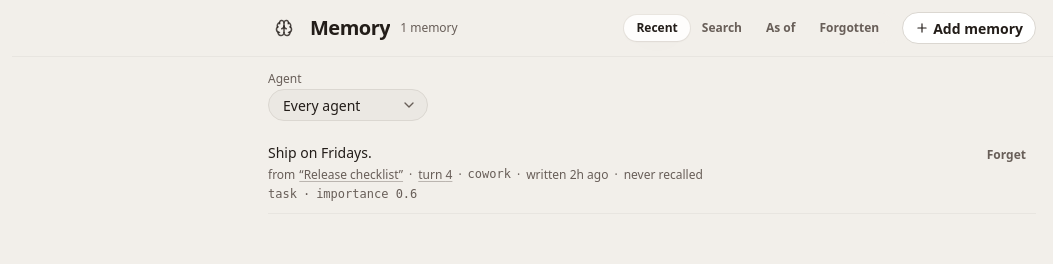
Test: as of a turn › follows a row link into As of without losing the conversation
This screenshot has width=1053, height=264.
Click the link "turn 4": x=435, y=175 418,162 -> 452,188
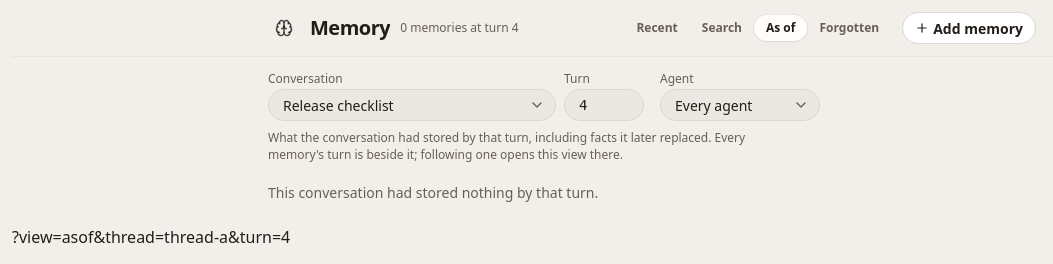
Now the text with test id "where" shows "view=asof", box 12,226 -> 290,248
Now the text with test id "where" shows "thread=thread-a", box 12,226 -> 290,248
Now the text with test id "where" shows "turn=4", box 12,226 -> 290,248
